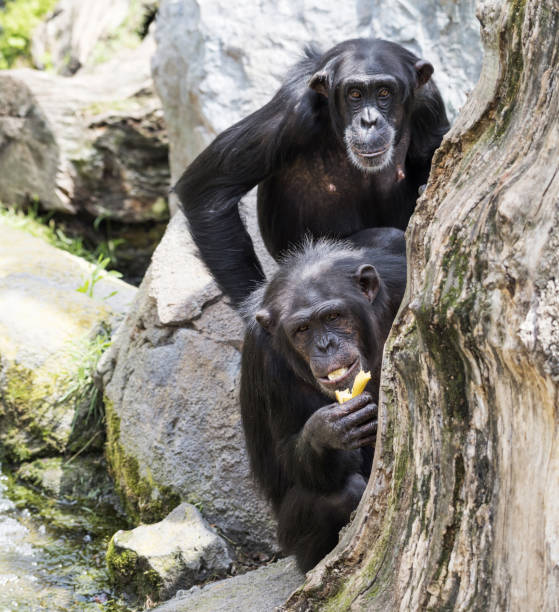chimpanzee: (240, 227, 401, 427), (307, 15, 444, 197)
